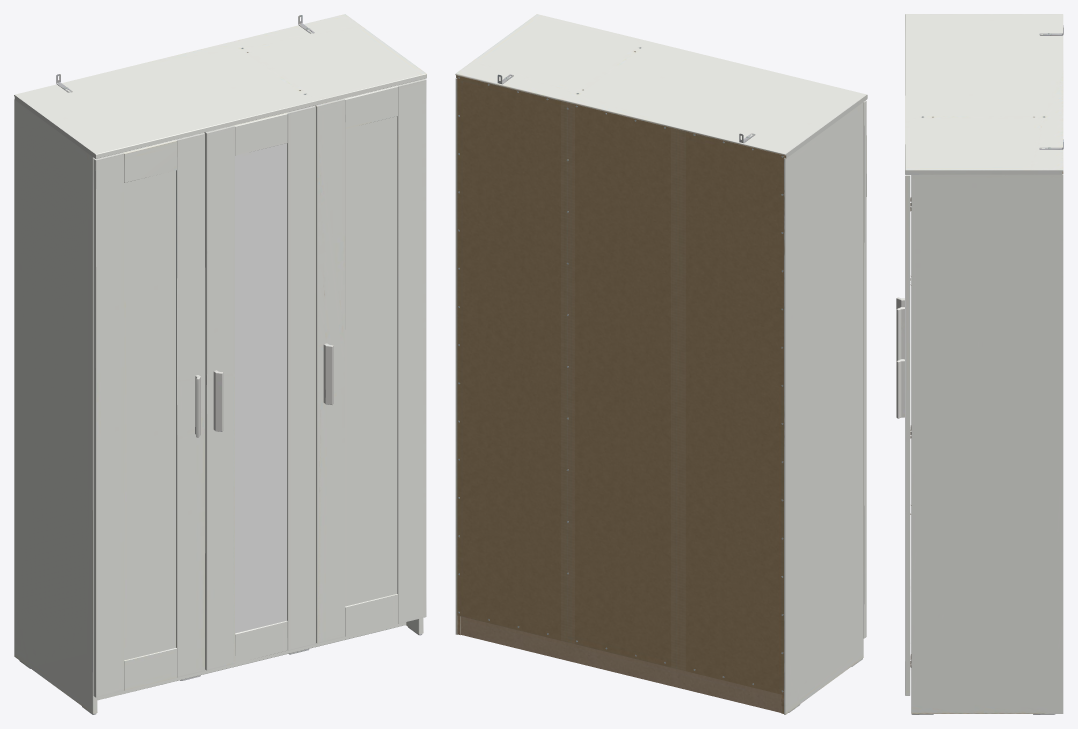
The model's file is brimnes_szafa_3_drzwi_40407922.glb.
3 renders of one model, left to right at view 1: azimuth 30°, elevation 25°; view 2: azimuth 150°, elevation 25°; view 3: azimuth 270°, elevation 25°, orthographic. The views are drawn at different scales.
Parts seen in each view (by area): view 1: brimnes_szafa_3_drzwi_40407922; view 2: brimnes_szafa_3_drzwi_40407922; view 3: brimnes_szafa_3_drzwi_40407922.
Boxes of the visible parts, <box> form: brimnes_szafa_3_drzwi_40407922: <box>14,14,426,714</box>; brimnes_szafa_3_drzwi_40407922: <box>455,14,867,714</box>; brimnes_szafa_3_drzwi_40407922: <box>896,14,1063,714</box>.
Size of the model in its own units: 1.17 by 1.94 by 0.5289.
Materials: 2 (2 with a texture image).
